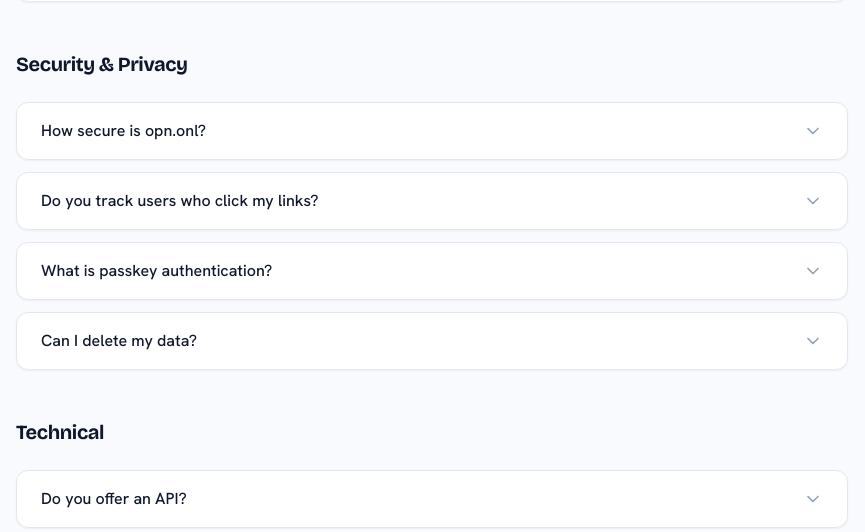
it: FAQ › says one day when the window is a single day
The image size is (865, 532).
(page scrolled)
Click the button "Can I delete my data?".
click(119, 340)  # box [17,313,847,369]
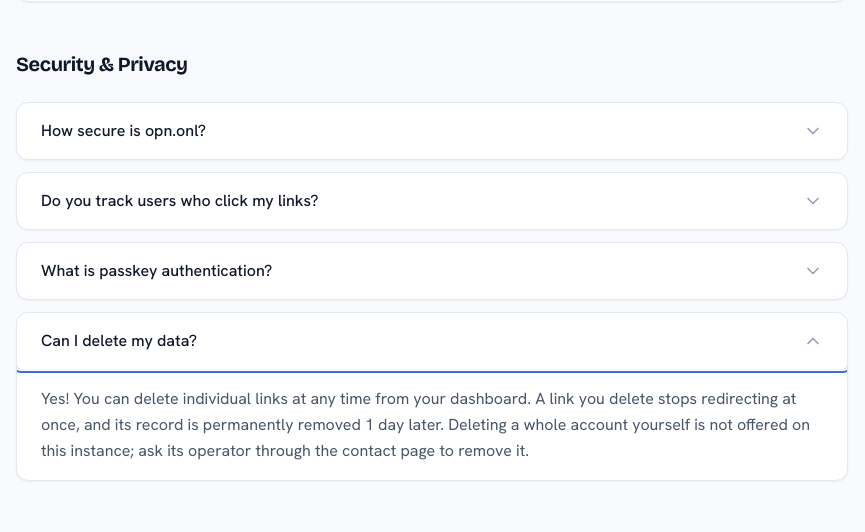
Check: the text "stops redirecting at once" does not show "1 days", box [17,369,847,480]
Check: the text "stops redirecting at once" shows "permanently removed 1 day later", box [41,388,810,461]
